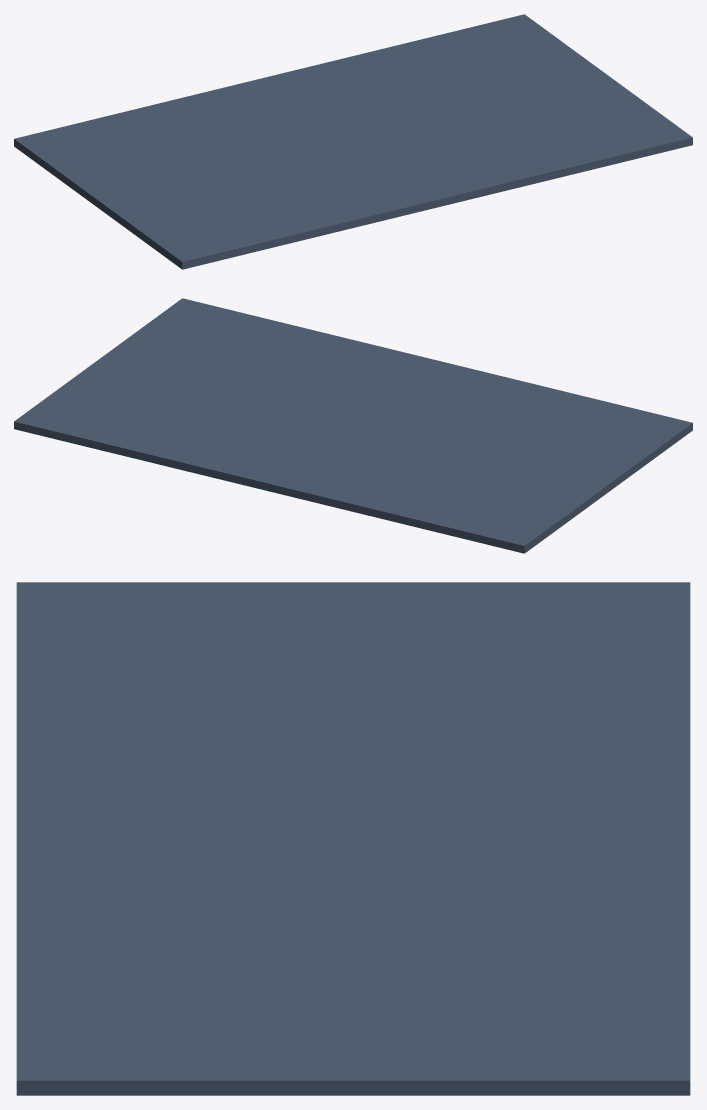
Rendered from floor_geometry.obj.
The picture shows the model from 3 angles, top to bottom: view 1: azimuth 30°, elevation 25°; view 2: azimuth 150°, elevation 25°; view 3: azimuth 270°, elevation 25°; orthographic projection. The views are drawn at different scales.
Visible parts, largest first — view 1: Floor_001_u_medbay_floor_procedure_room, Floor_002_u_medbay_floor_observation_ward, Floor_003_u_medbay_floor_clean_corridor, Floor_005_u_medbay_floor_triage, Floor_006_u_medbay_floor_medical_post, Floor_004_u_medbay_floor_clean_store, Floor_007_u_medbay_floor_sanitary_airlock; view 2: Floor_001_u_medbay_floor_procedure_room, Floor_002_u_medbay_floor_observation_ward, Floor_003_u_medbay_floor_clean_corridor, Floor_005_u_medbay_floor_triage, Floor_006_u_medbay_floor_medical_post, Floor_004_u_medbay_floor_clean_store, Floor_007_u_medbay_floor_sanitary_airlock; view 3: Floor_001_u_medbay_floor_procedure_room, Floor_002_u_medbay_floor_observation_ward, Floor_003_u_medbay_floor_clean_corridor, Floor_005_u_medbay_floor_triage, Floor_006_u_medbay_floor_medical_post, Floor_007_u_medbay_floor_sanitary_airlock, Floor_004_u_medbay_floor_clean_store.
Boxes of the visible parts, box(x1,y1,x2,y2) form: Floor_001_u_medbay_floor_procedure_room: box(14, 73, 370, 210); Floor_002_u_medbay_floor_observation_ward: box(102, 138, 450, 269); Floor_003_u_medbay_floor_clean_corridor: box(283, 52, 536, 203); Floor_005_u_medbay_floor_triage: box(424, 55, 644, 140); Floor_006_u_medbay_floor_medical_post: box(489, 103, 692, 183); Floor_004_u_medbay_floor_clean_store: box(368, 33, 503, 93); Floor_007_u_medbay_floor_sanitary_airlock: box(448, 14, 579, 73); Floor_001_u_medbay_floor_procedure_room: box(256, 416, 612, 553); Floor_002_u_medbay_floor_observation_ward: box(344, 357, 692, 488); Floor_003_u_medbay_floor_clean_corridor: box(170, 336, 423, 487); Floor_005_u_medbay_floor_triage: box(70, 333, 291, 418); Floor_006_u_medbay_floor_medical_post: box(135, 298, 338, 370); Floor_004_u_medbay_floor_clean_store: box(90, 399, 226, 467); Floor_007_u_medbay_floor_sanitary_airlock: box(14, 380, 145, 447); Floor_001_u_medbay_floor_procedure_room: box(336, 582, 690, 844); Floor_002_u_medbay_floor_observation_ward: box(16, 582, 336, 844); Floor_003_u_medbay_floor_clean_corridor: box(16, 844, 690, 927); Floor_005_u_medbay_floor_triage: box(206, 927, 465, 1095); Floor_006_u_medbay_floor_medical_post: box(16, 927, 206, 1095); Floor_007_u_medbay_floor_sanitary_airlock: box(465, 1006, 690, 1095); Floor_004_u_medbay_floor_clean_store: box(465, 927, 690, 1006).
Bounding box in the file's own units: 14 × 0.2 × 8.
